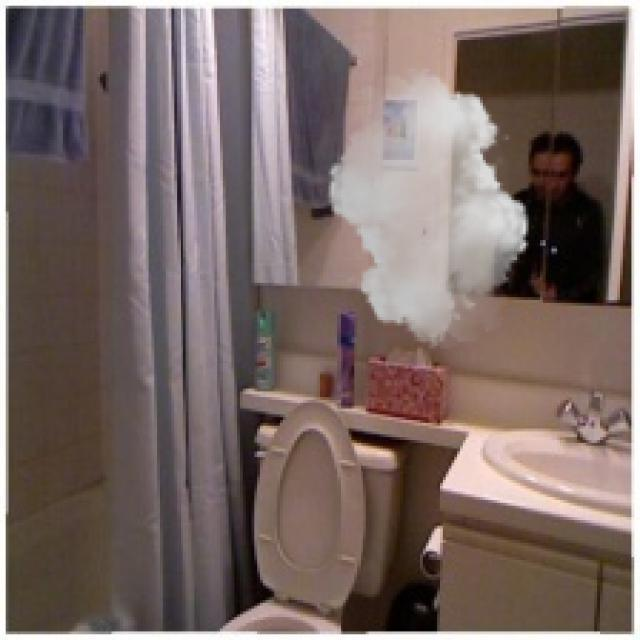Smoke: (320, 69, 537, 348)
